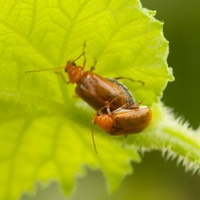insect: (64, 42, 151, 134)
